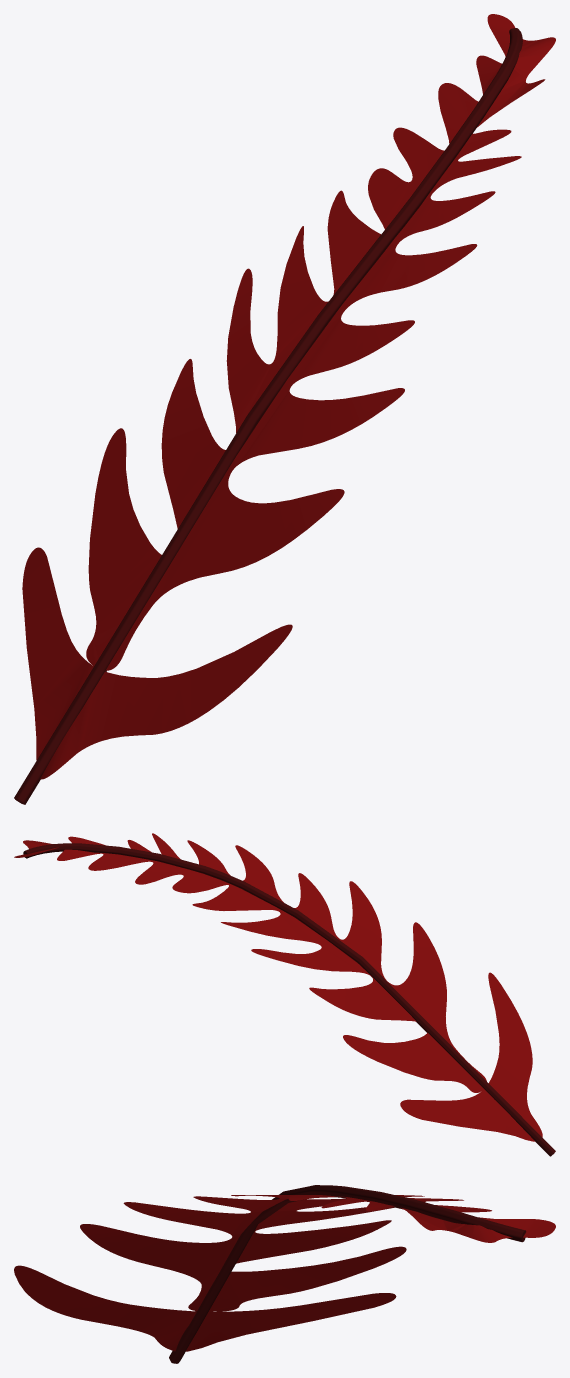
The model's file is blutfarn-2-duenner.fbx.
3 views of the same model, one above another, from view 1: azimuth 30°, elevation 25°; view 2: azimuth 150°, elevation 25°; view 3: azimuth 270°, elevation 25° (orthographic). The views are drawn at different scales.
Visible parts, largest first — view 1: BF_b; view 2: BF_b; view 3: BF_b.
Boxes of the visible parts, x1=… form: BF_b: x1=14, y1=14, x2=555, y2=804; BF_b: x1=14, y1=833, x2=555, y2=1156; BF_b: x1=14, y1=1185, x2=555, y2=1363.
Size of the model in its own units: 114 by 73.67 by 81.35.
